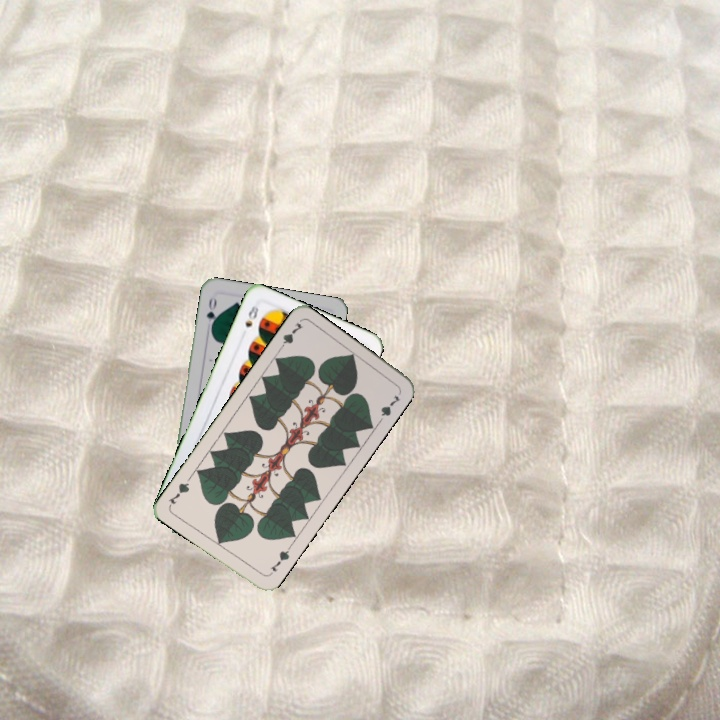G7: (275, 318, 306, 354), (265, 543, 293, 578)
GO: (202, 292, 220, 333)
S8: (241, 301, 261, 330)
